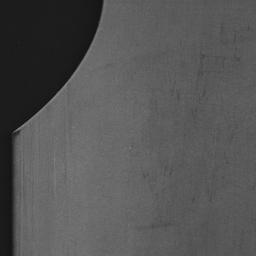Crescent gap: (16, 0, 103, 129)
